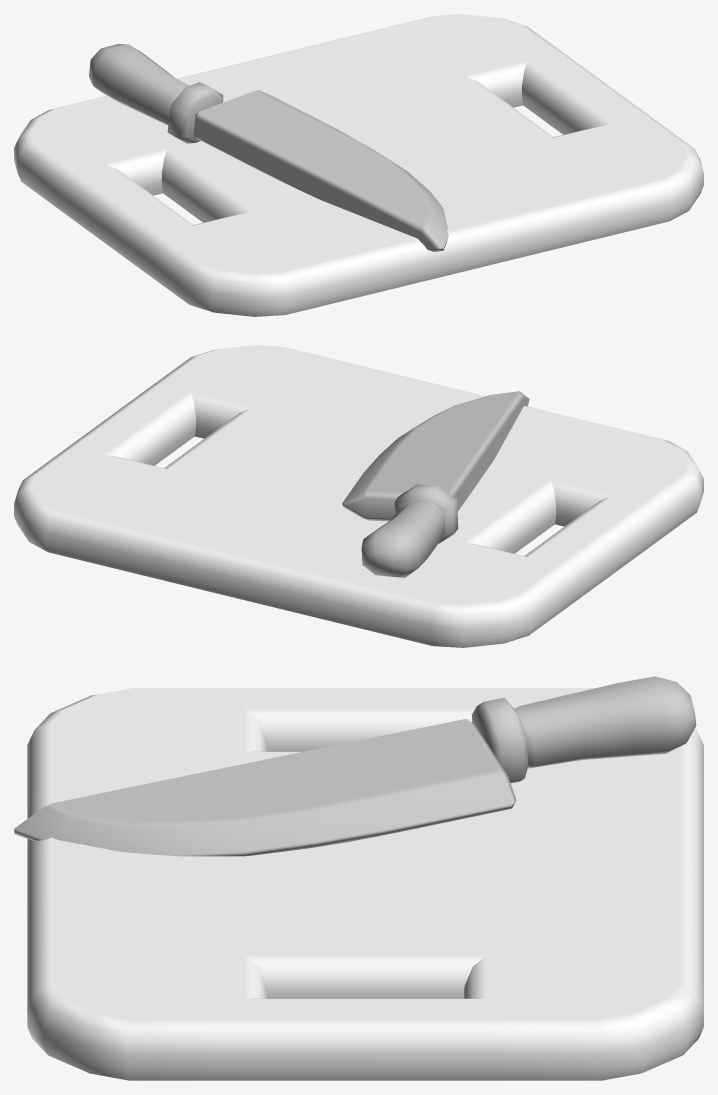
The model's file is CuttingBoard.fbx.
The picture shows the model from 3 angles, top to bottom: view 1: azimuth 30°, elevation 25°; view 2: azimuth 150°, elevation 25°; view 3: azimuth 270°, elevation 25°; orthographic projection. The views are drawn at different scales.
Parts seen in each view (by area): view 1: Combined Mesh (root: scene)_9, Knife_0; view 2: Combined Mesh (root: scene)_9, Knife_0; view 3: Combined Mesh (root: scene)_9, Knife_0.
Boxes of the visible parts, left/top/right/bottom form: Combined Mesh (root: scene)_9: left=14, top=14, right=703, bottom=316; Knife_0: left=89, top=44, right=448, bottom=251; Combined Mesh (root: scene)_9: left=14, top=345, right=703, bottom=647; Knife_0: left=342, top=391, right=529, bottom=577; Combined Mesh (root: scene)_9: left=27, top=688, right=703, bottom=1080; Knife_0: left=14, top=676, right=696, bottom=856.
Bounding box in the file's own units: 0.9875 × 0.1687 × 0.8174.
